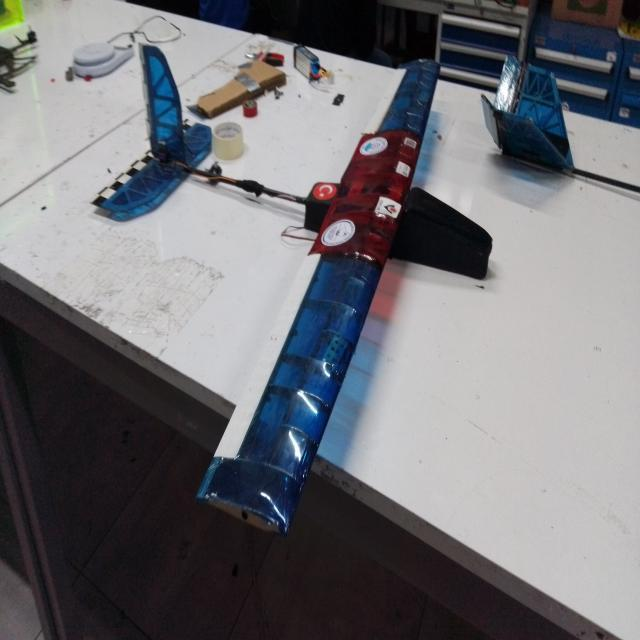UAV: (31, 14, 528, 512)
